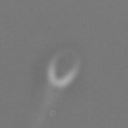normal: (14, 85, 56, 128)
